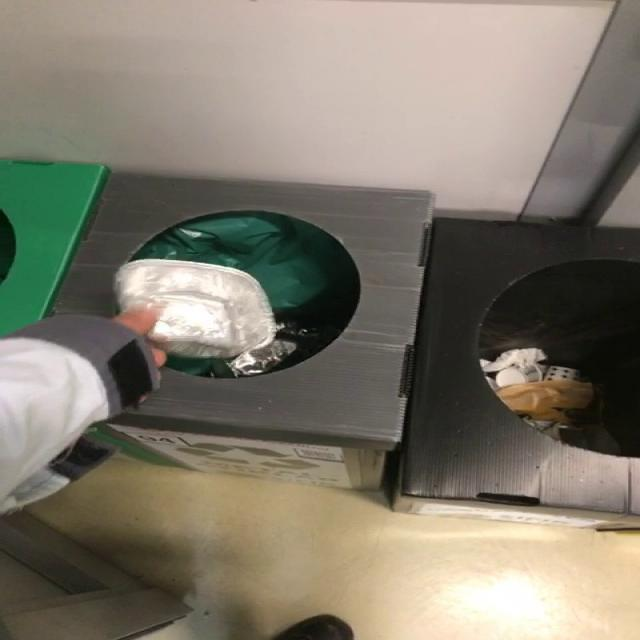Bin: (52, 173, 640, 530)
Metal: (115, 259, 275, 358)
